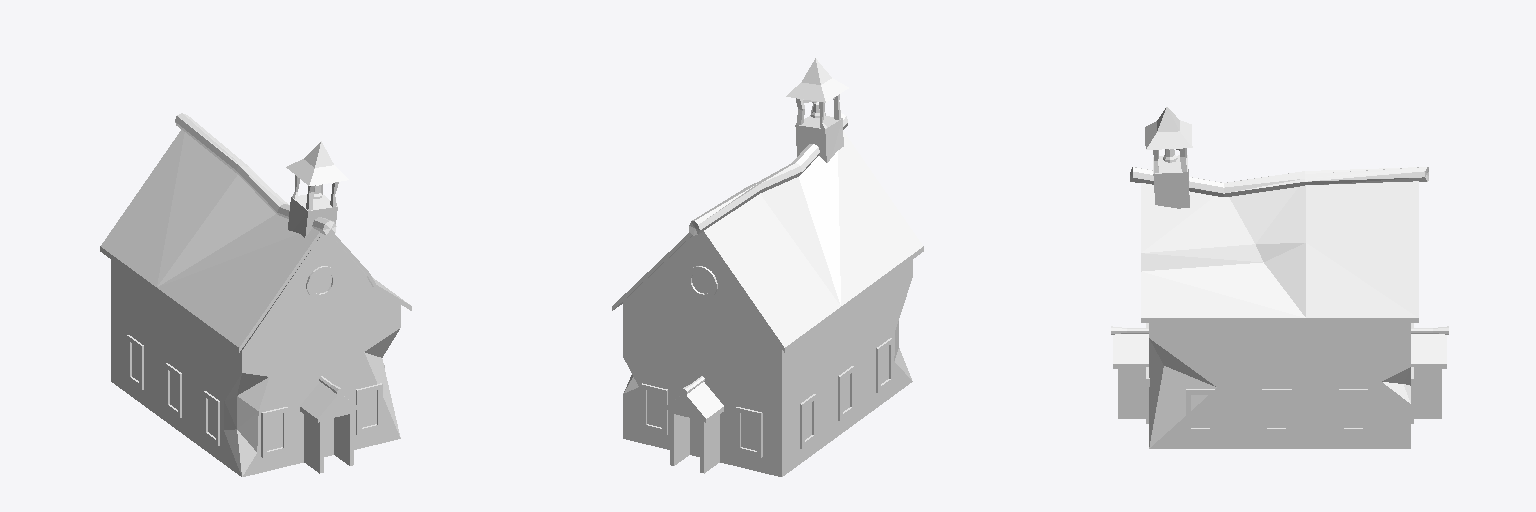
Rendered from BG_Church.obj.
3 views of the same model, side by side, from view 1: azimuth 30°, elevation 25°; view 2: azimuth 150°, elevation 25°; view 3: azimuth 270°, elevation 25° (orthographic).
Visible parts, largest first — view 1: Church; view 2: Church; view 3: Church.
Part boxes in pixels (left/top/right/bottom): Church: left=100, top=113, right=411, bottom=476; Church: left=612, top=58, right=923, bottom=476; Church: left=1111, top=107, right=1448, bottom=448.
Size of the model in its own units: 76 by 130 by 129.